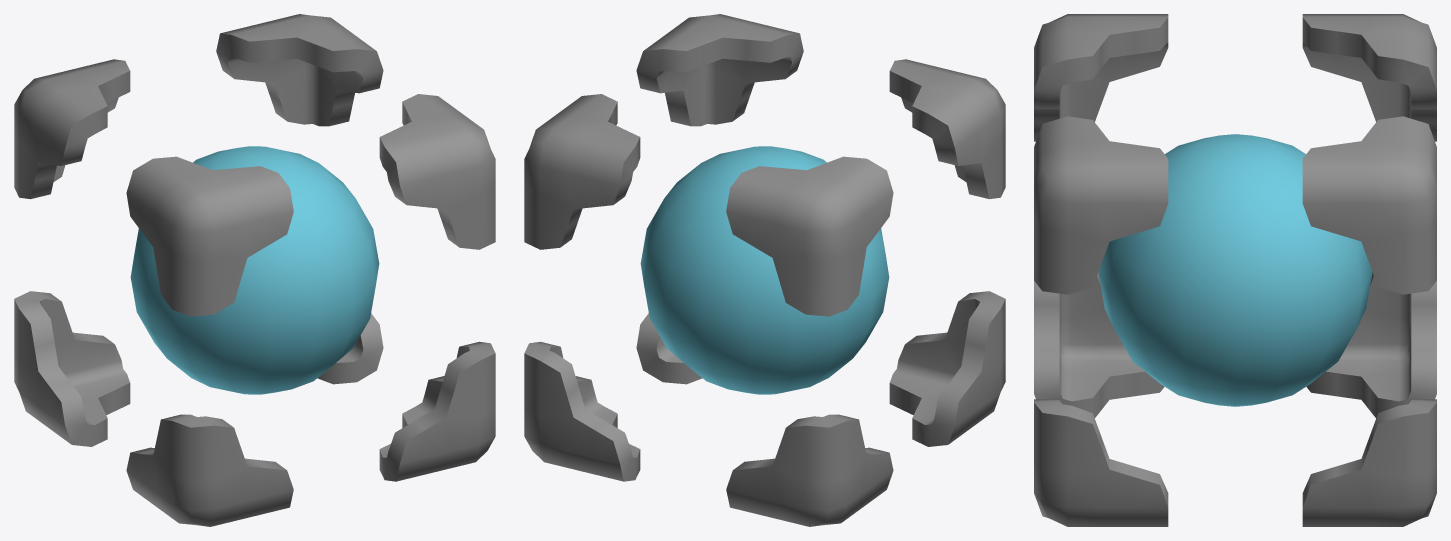
The model's file is pickup_shield.glb.
3 renders of one model, left to right at view 1: azimuth 30°, elevation 25°; view 2: azimuth 150°, elevation 25°; view 3: azimuth 270°, elevation 25°, orthographic. The views are drawn at different scales.
Parts seen in each view (by area): view 1: body; view 2: body; view 3: body.
Part boxes in pixels (x1,y1,x2,y2): body: [14, 14, 495, 526]; body: [524, 14, 1005, 526]; body: [1034, 14, 1436, 526].
Size of the model in its own units: 1 by 1 by 1.
